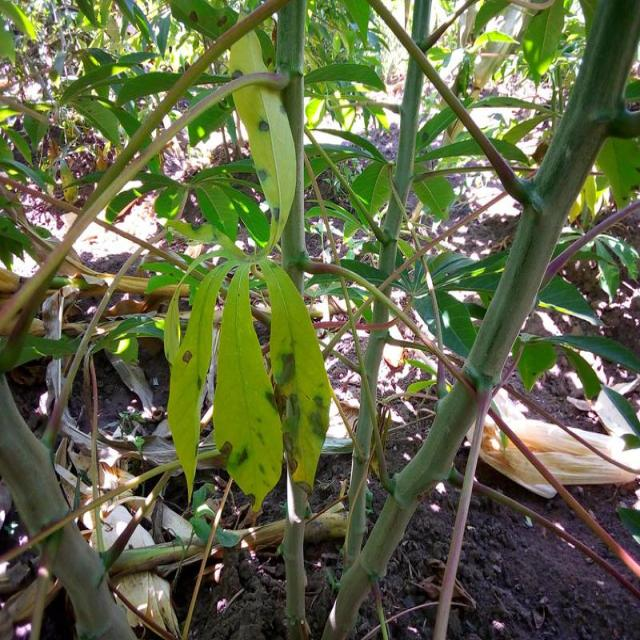cassava leaf: (254, 255, 334, 496), (213, 259, 285, 513), (166, 258, 234, 506), (228, 20, 298, 249)
